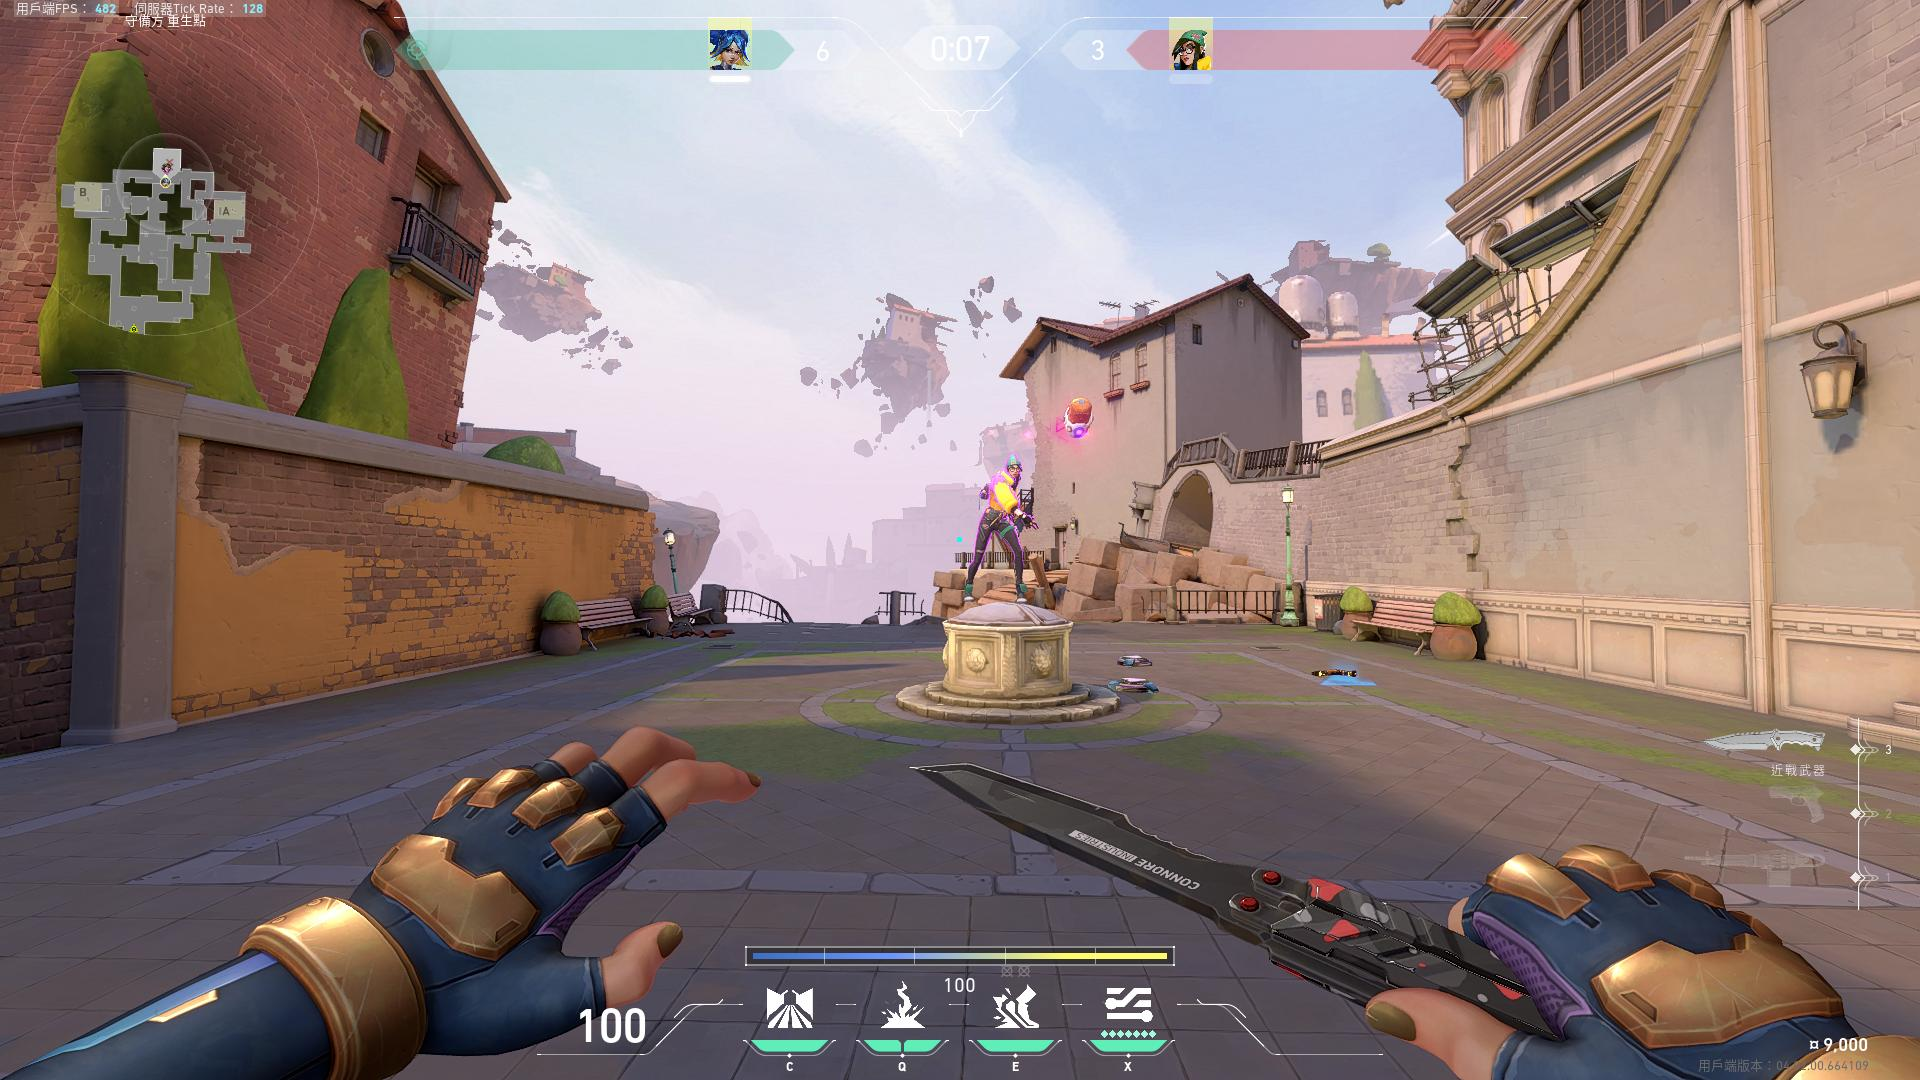enemyBody: (996, 477, 1013, 509)
enemyHead: (1009, 465, 1021, 476)
